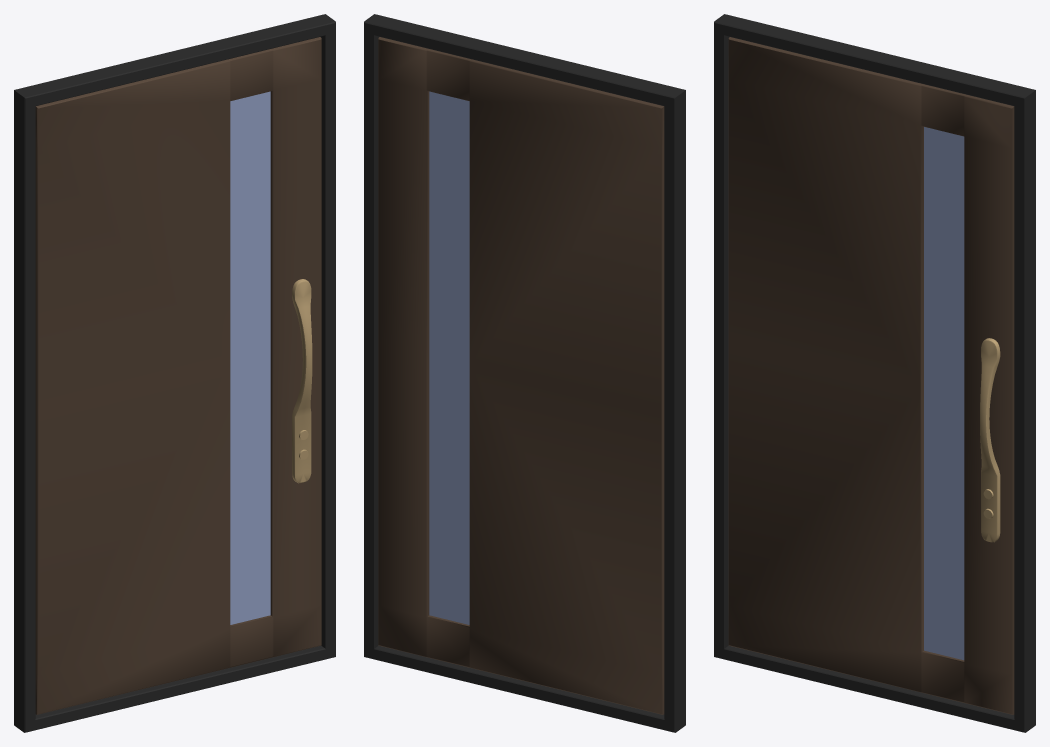
File: door.fbx
3 renders of one model, left to right at view 1: azimuth 30°, elevation 25°; view 2: azimuth 150°, elevation 25°; view 3: azimuth 330°, elevation 25°, orthographic.
Visible parts, largest first — view 1: door, frame, handle; view 2: door, frame; view 3: door, frame, handle.
Part boxes in pixels (x1,y1,x2,y2): door: (35, 37, 321, 714); frame: (14, 14, 335, 732); handle: (292, 279, 312, 483); door: (378, 37, 664, 714); frame: (364, 14, 685, 732); door: (728, 37, 1014, 714); frame: (714, 14, 1035, 732); handle: (980, 338, 1000, 542).
Size of the model in its own units: 192 by 374 by 20.38.
